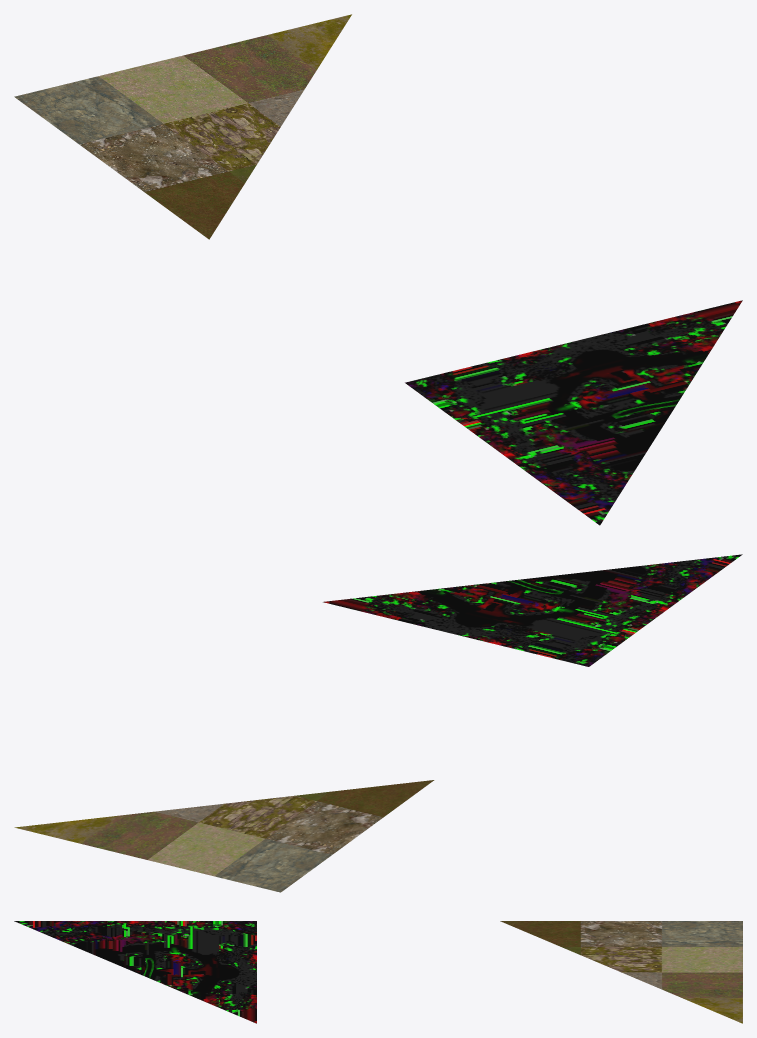
The model's file is terrain_materials_hq.glb.
3 views of the same model, one above another, from view 1: azimuth 30°, elevation 25°; view 2: azimuth 150°, elevation 25°; view 3: azimuth 270°, elevation 25° (orthographic). The views are drawn at different scales.
Visible parts, largest first — view 1: terrain_material_carrier, splatC_carrier; view 2: splatC_carrier, terrain_material_carrier; view 3: terrain_material_carrier, splatC_carrier.
Boxes of the visible parts, left/top/right/bottom form: terrain_material_carrier: left=14, top=14, right=351, bottom=239; splatC_carrier: left=405, top=300, right=742, bottom=525; splatC_carrier: left=323, top=554, right=742, bottom=666; terrain_material_carrier: left=14, top=780, right=434, bottom=892; terrain_material_carrier: left=500, top=921, right=742, bottom=1023; splatC_carrier: left=14, top=921, right=256, bottom=1023.
Size of the model in its own units: 1 by 0 by 3.
Materials: 2 (2 with a texture image).
